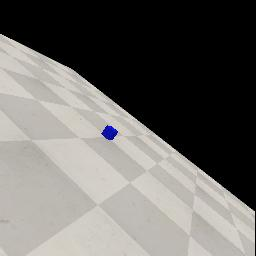box: (101, 125, 118, 140)
